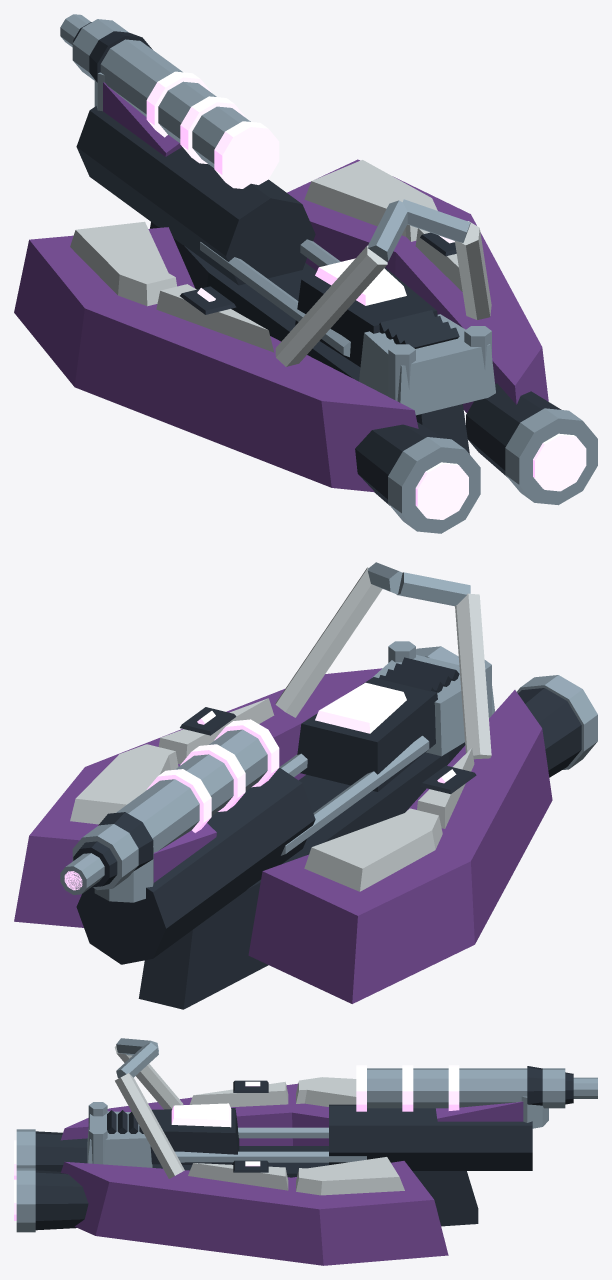
The model's file is c5_sniper.glb.
3 renders of one model, top to bottom at view 1: azimuth 30°, elevation 25°; view 2: azimuth 150°, elevation 25°; view 3: azimuth 270°, elevation 25°, orthographic. The views are drawn at different scales.
Visible parts, largest first — view 1: c5_sniper / Armor, c5_sniper / Chassis, c5_sniper / Titanium, c5_sniper / Identification, c5_sniper / Energy; view 2: c5_sniper / Armor, c5_sniper / Chassis, c5_sniper / Titanium, c5_sniper / Identification, c5_sniper / Energy; view 3: c5_sniper / Armor, c5_sniper / Chassis, c5_sniper / Titanium, c5_sniper / Identification, c5_sniper / Energy.
Part boxes in pixels (left/top/right/bottom): c5_sniper / Armor: left=14, top=82, right=548, bottom=492; c5_sniper / Chassis: left=73, top=22, right=561, bottom=505; c5_sniper / Titanium: left=60, top=14, right=597, bottom=533; c5_sniper / Identification: left=70, top=160, right=491, bottom=366; c5_sniper / Energy: left=146, top=71, right=586, bottom=519; c5_sniper / Armor: left=14, top=668, right=552, bottom=1003; c5_sniper / Chassis: left=73, top=657, right=581, bottom=1009; c5_sniper / Titanium: left=60, top=562, right=597, bottom=902; c5_sniper / Identification: left=70, top=567, right=491, bottom=891; c5_sniper / Energy: left=64, top=682, right=456, bottom=890; c5_sniper / Armor: left=61, top=1083, right=523, bottom=1265; c5_sniper / Chassis: left=35, top=1066, right=573, bottom=1230; c5_sniper / Titanium: left=16, top=1038, right=597, bottom=1232; c5_sniper / Identification: left=114, top=1046, right=404, bottom=1195; c5_sniper / Energy: left=14, top=1065, right=459, bottom=1220.
Size of the model in its own units: 1.16 by 0.7107 by 2.15.
